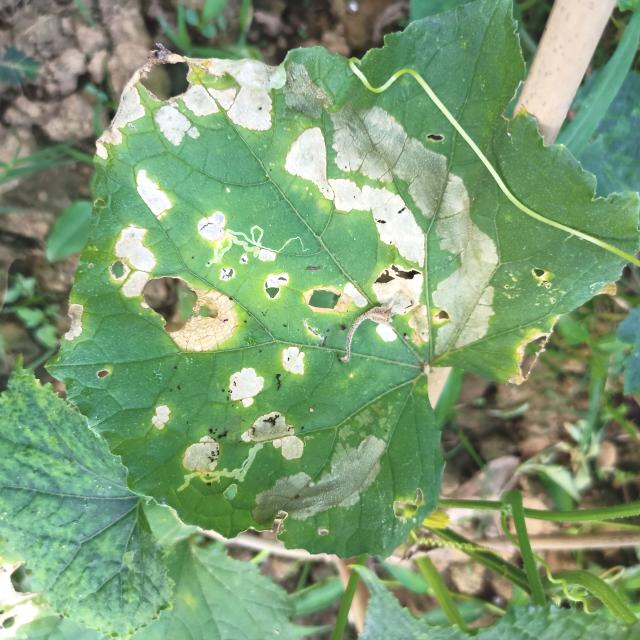disease_cucumber: (284, 84, 501, 354), (91, 46, 282, 351), (145, 351, 382, 513)
